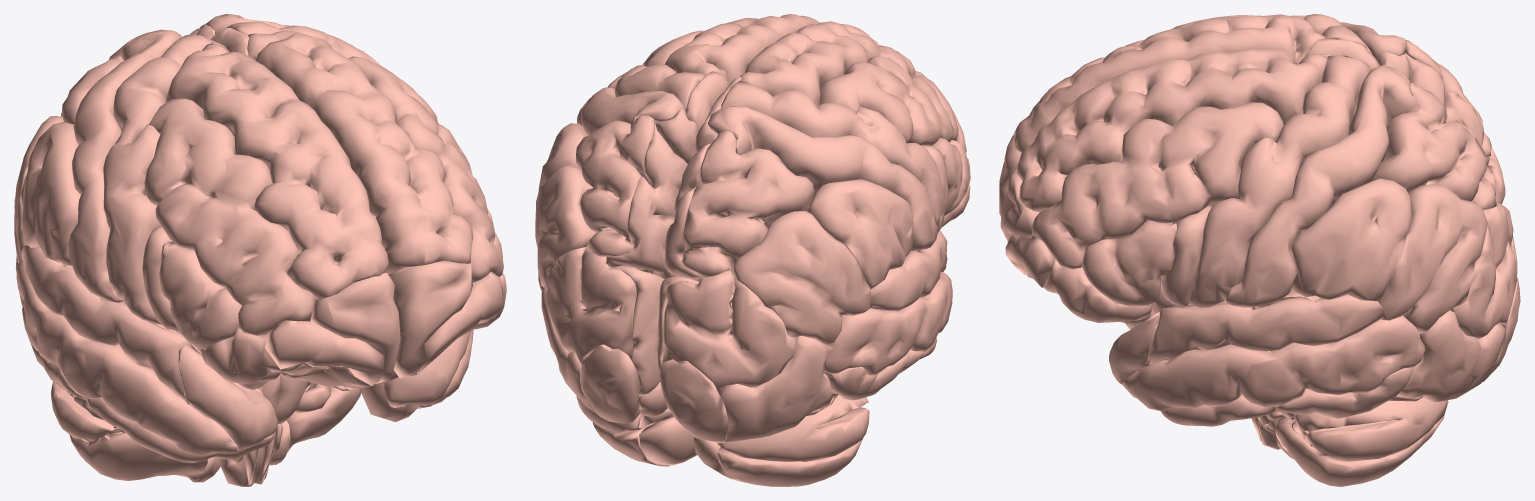
Rendered from 3d-vh-f-allen-brain.glb.
3 renders of one model, left to right at view 1: azimuth 30°, elevation 25°; view 2: azimuth 150°, elevation 25°; view 3: azimuth 270°, elevation 25°, orthographic. The views are drawn at different scales.
Visible parts, largest first — view 1: Allen_superior_frontal_gyrus_L, Allen_middle_frontal_gyrus_L, Allen_superior_frontal_gyrus_R, Allen_middle_temporal_gyrus_L, Allen_precentral_gyrus_L, Allen_postcentral_gyrus_L, Allen_superior_temporal_gyrus_L, Allen_middle_frontal_gyrus_R, Allen_supramarginal_gyrus_L, Allen_rostral_gyrus_R, Allen_lateral_hemisphere_of_cerebellum_L, Allen_inferior_frontal_gyrus_triangular_part_L (+19 smaller); view 2: Allen_supraparietal_lobule_L, Allen_angular_gyrus_L, Allen_superior_occipital_gyrus_L, Allen_postcentral_gyrus_L, Allen_lateral_hemisphere_of_cerebellum_L, Allen_superior_occipital_gyrus_R, Allen_supraparietal_lobule_R, Allen_precentral_gyrus_L, Allen_supramarginal_gyrus_L, Allen_middle_frontal_gyrus_L, Allen_superior_frontal_gyrus_L, Allen_middle_temporal_gyrus_L (+24 smaller); view 3: Allen_middle_frontal_gyrus_R, Allen_superior_frontal_gyrus_R, Allen_middle_temporal_gyrus_R, Allen_precentral_gyrus_R, Allen_postcentral_gyrus_R, Allen_supramarginal_gyrus_R, Allen_angular_gyrus_R, Allen_superior_temporal_gyrus_R, Allen_lateral_hemisphere_of_cerebellum_R, Allen_superior_frontal_gyrus_L, Allen_supraparietal_lobule_R, Allen_inferior_frontal_gyrus_triangular_part_R (+16 smaller).
Boxes of the visible parts, bbox=[...] form: Allen_superior_frontal_gyrus_L: bbox=[165, 43, 388, 300]; Allen_middle_frontal_gyrus_L: bbox=[144, 98, 316, 335]; Allen_superior_frontal_gyrus_R: bbox=[247, 30, 473, 273]; Allen_middle_temporal_gyrus_L: bbox=[16, 260, 239, 455]; Allen_precentral_gyrus_L: bbox=[103, 34, 210, 324]; Allen_postcentral_gyrus_L: bbox=[68, 29, 181, 302]; Allen_superior_temporal_gyrus_L: bbox=[21, 245, 194, 404]; Allen_middle_frontal_gyrus_R: bbox=[348, 56, 503, 282]; Allen_supramarginal_gyrus_L: bbox=[21, 122, 80, 265]; Allen_rostral_gyrus_R: bbox=[389, 260, 472, 378]; Allen_lateral_hemisphere_of_cerebellum_L: bbox=[51, 381, 207, 480]; Allen_inferior_frontal_gyrus_triangular_part_L: bbox=[159, 241, 241, 350]; Allen_supraparietal_lobule_L: bbox=[681, 130, 814, 277]; Allen_angular_gyrus_L: bbox=[733, 210, 870, 344]; Allen_superior_occipital_gyrus_L: bbox=[662, 270, 798, 394]; Allen_postcentral_gyrus_L: bbox=[707, 106, 938, 251]; Allen_lateral_hemisphere_of_cerebellum_L: bbox=[717, 394, 869, 486]; Allen_superior_occipital_gyrus_R: bbox=[546, 245, 636, 365]; Allen_supraparietal_lobule_R: bbox=[576, 115, 654, 256]; Allen_precentral_gyrus_L: bbox=[721, 80, 945, 232]; Allen_supramarginal_gyrus_L: bbox=[807, 179, 913, 289]; Allen_middle_frontal_gyrus_L: bbox=[819, 55, 966, 152]; Allen_superior_frontal_gyrus_L: bbox=[740, 21, 926, 106]; Allen_middle_temporal_gyrus_L: bbox=[824, 271, 952, 375]; Allen_middle_frontal_gyrus_R: bbox=[1032, 102, 1283, 269]; Allen_superior_frontal_gyrus_R: bbox=[1016, 49, 1327, 212]; Allen_middle_temporal_gyrus_R: bbox=[1122, 315, 1424, 411]; Allen_precentral_gyrus_R: bbox=[1188, 55, 1371, 307]; Allen_postcentral_gyrus_R: bbox=[1224, 65, 1419, 307]; Allen_supramarginal_gyrus_R: bbox=[1290, 178, 1411, 301]; Allen_angular_gyrus_R: bbox=[1378, 184, 1487, 333]; Allen_superior_temporal_gyrus_R: bbox=[1147, 294, 1383, 366]; Allen_lateral_hemisphere_of_cerebellum_R: bbox=[1266, 397, 1448, 486]; Allen_superior_frontal_gyrus_L: bbox=[1013, 14, 1325, 152]; Allen_supraparietal_lobule_R: bbox=[1370, 82, 1496, 209]; Allen_inferior_frontal_gyrus_triangular_part_R: bbox=[1082, 220, 1176, 306].
Bounding box in the file's own units: 0.136 × 0.1459 × 0.1668.
